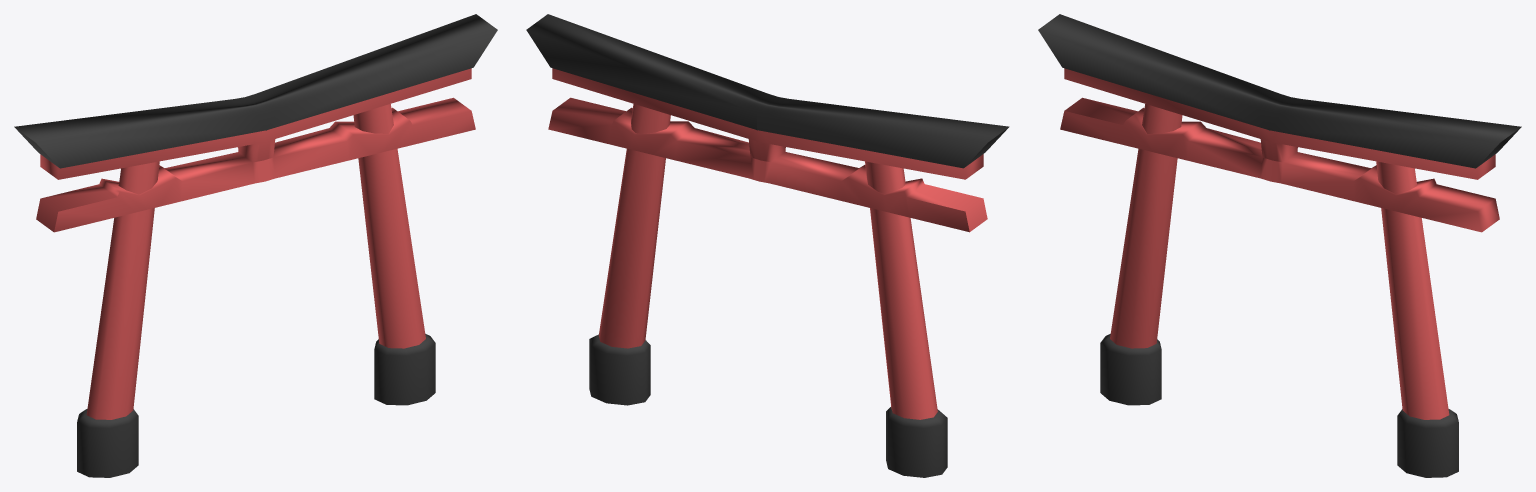
File: shrine.fbx
3 views of the same model, side by side, from view 1: azimuth 30°, elevation 25°; view 2: azimuth 150°, elevation 25°; view 3: azimuth 330°, elevation 25° (orthographic).
Visible parts, largest first — view 1: Shrine; view 2: Shrine; view 3: Shrine.
Part boxes in pixels (x1,y1,x2,y2): Shrine: (14,14,497,477); Shrine: (526,14,1009,477); Shrine: (1038,14,1521,477).
Bounding box in the file's own units: 5.13 × 3.73 × 0.4902.
